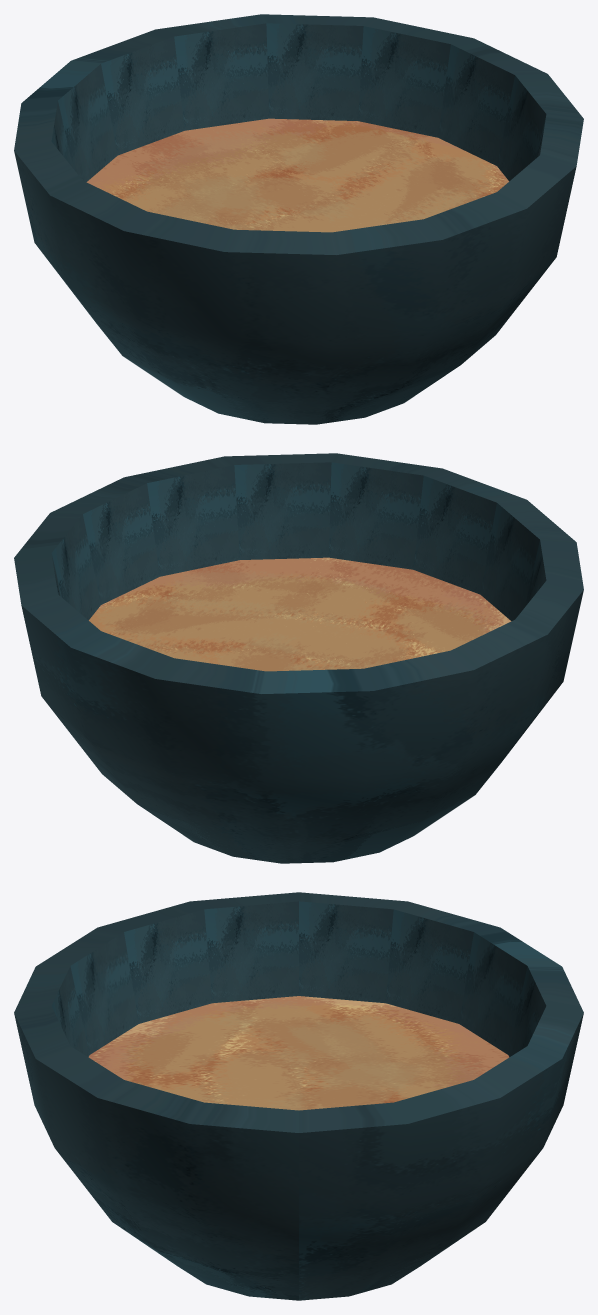
File: bowl (1).fbx
The picture shows the model from 3 angles, top to bottom: view 1: azimuth 30°, elevation 25°; view 2: azimuth 150°, elevation 25°; view 3: azimuth 270°, elevation 25°; orthographic projection.
Visible parts, largest first — view 1: bowl, batter; view 2: bowl, batter; view 3: bowl, batter.
Part boxes in pixels (x1,y1,x2,y2): bowl: (14, 14, 583, 424); batter: (86, 118, 508, 232); bowl: (14, 453, 583, 863); batter: (89, 557, 511, 671); bowl: (14, 892, 583, 1300); batter: (88, 996, 509, 1110).
Size of the model in its own units: 34.56 by 16.01 by 34.56.
